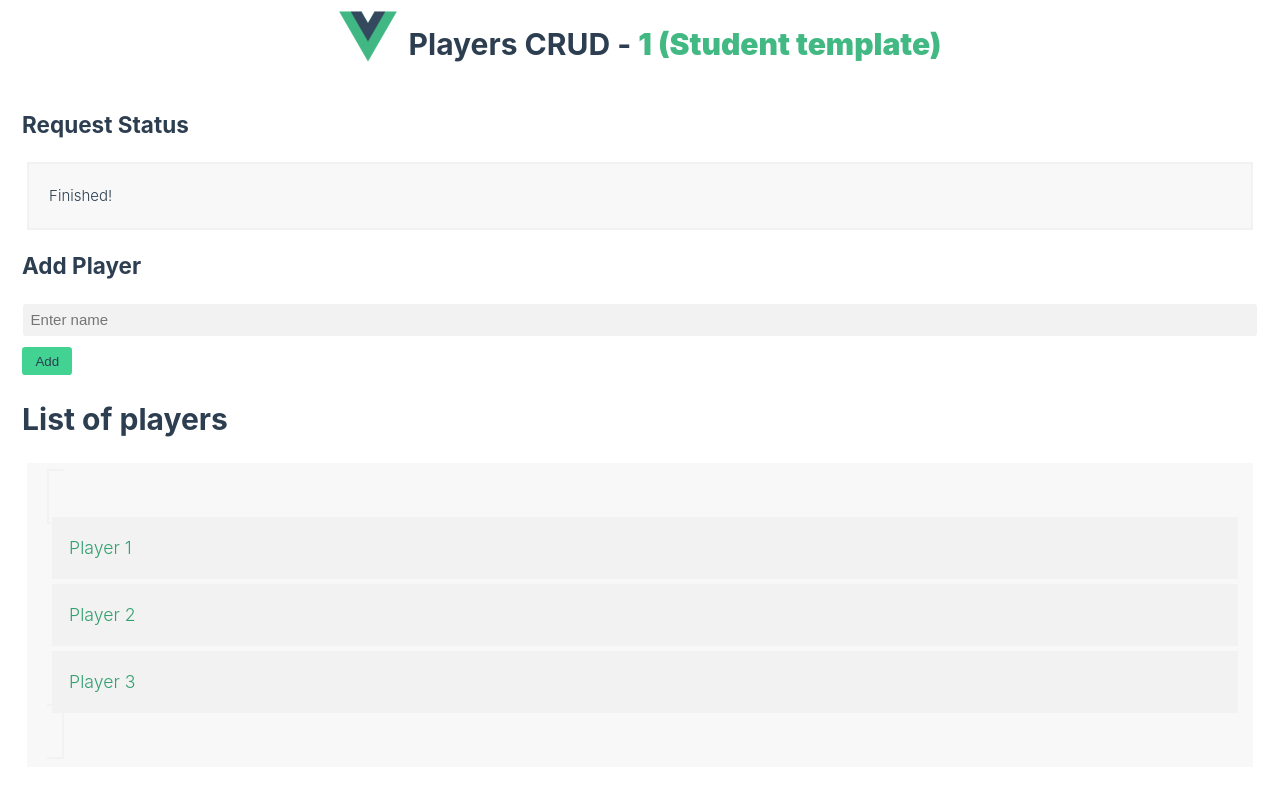
it: Requests: POST › should be able to successfully add a new player to the backend, and then to the list of players
Expected: the text "Finished" is shown, [27,162,1253,230]
Type "New Player" into the field with id "input-player".
click(640, 320); type("New Player")  # box [22,303,1258,337]
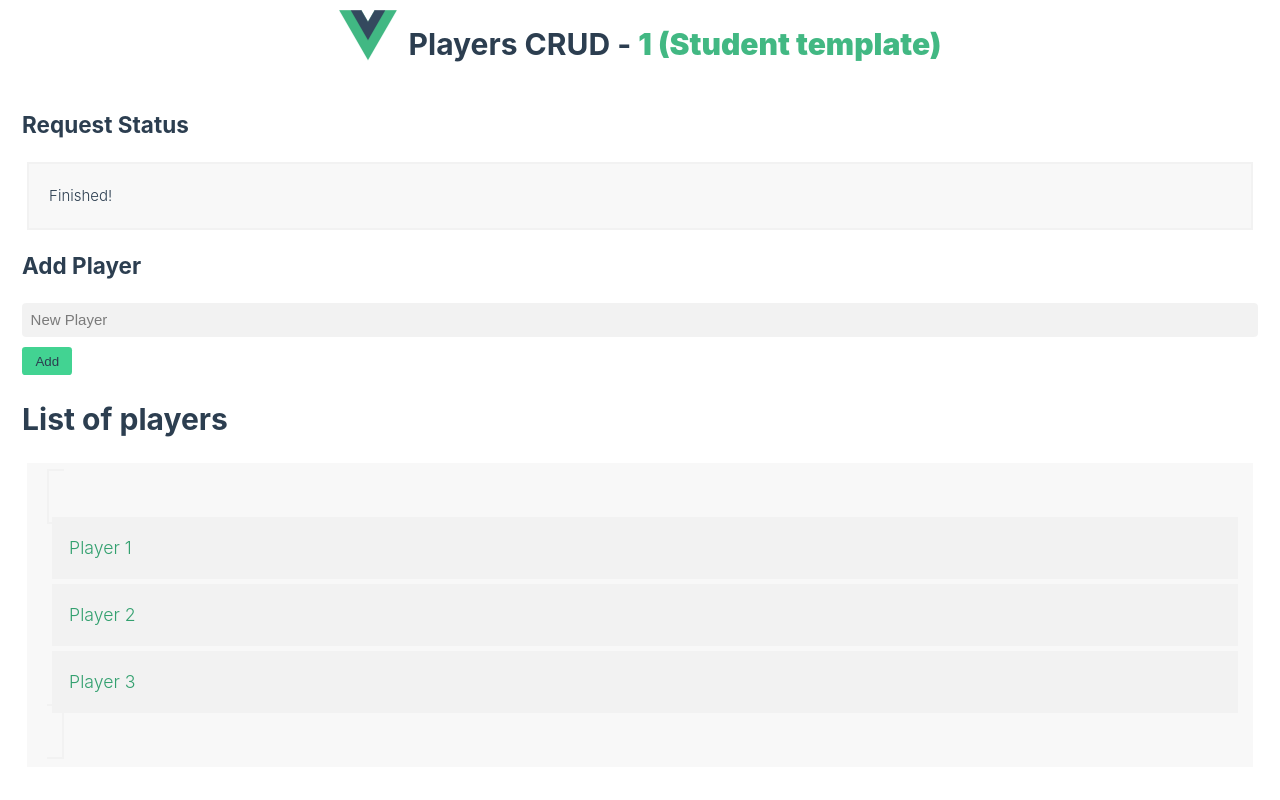
Click the button "Add".
click(47, 361)  # box [22,347,72,375]
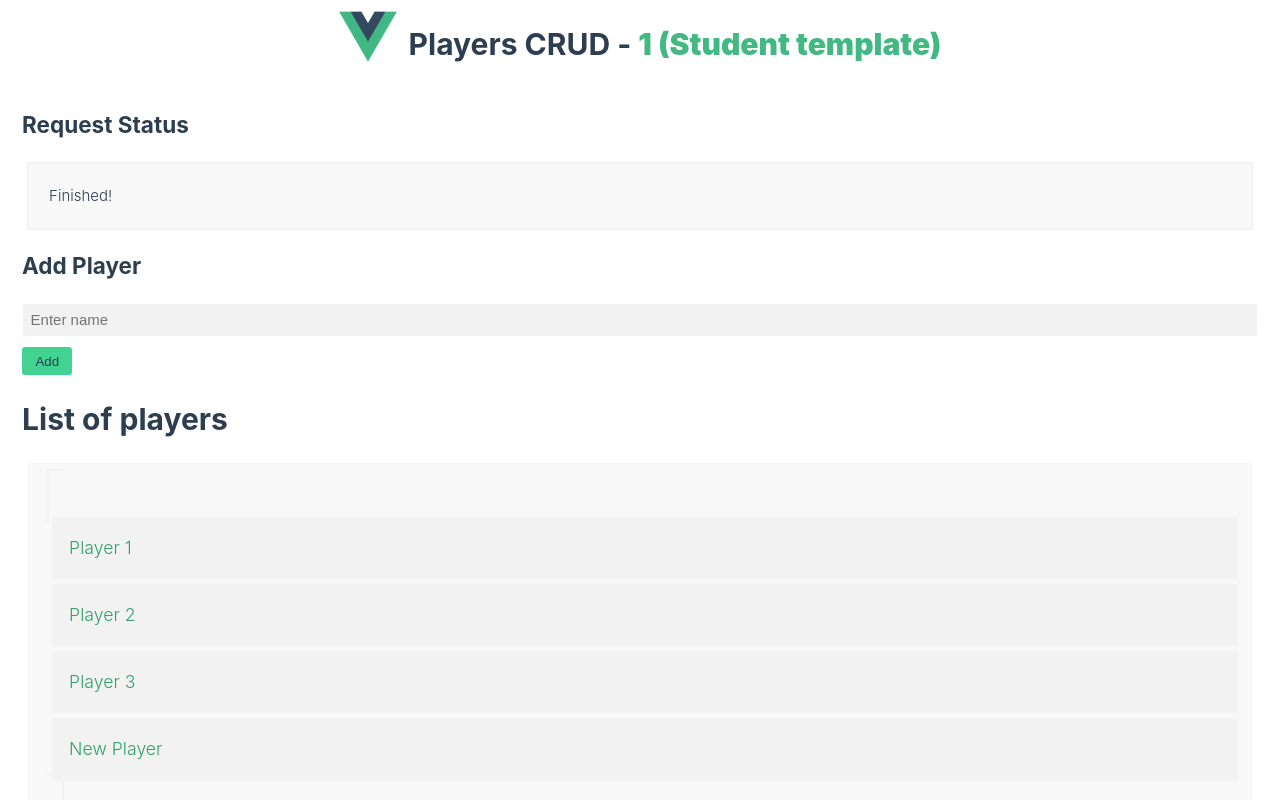
Expected: the text "Finished" is shown, [27,162,1253,230]
Expected: the number of list items is 4, [52,517,1238,579]; [52,584,1238,646]; [52,651,1238,713]; [52,718,1238,781]
Expected: the link "New Player" is shown, [52,718,1238,781]
